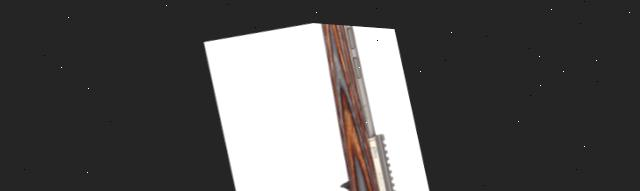rifle: (233, 14, 407, 191)
